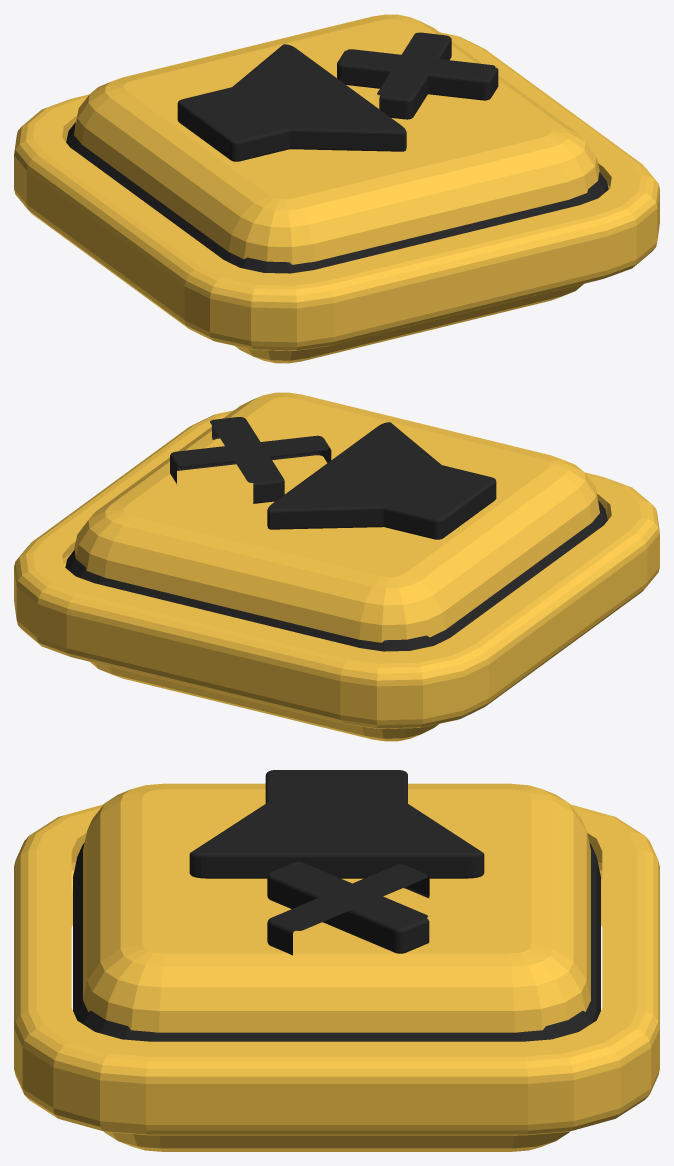
Rendered from Button_SoundOff.fbx.
3 renders of one model, top to bottom at view 1: azimuth 30°, elevation 25°; view 2: azimuth 150°, elevation 25°; view 3: azimuth 270°, elevation 25°, orthographic. The views are drawn at different scales.
Visible parts, largest first — view 1: Cube, Cube_12, Cube_1, Cube_10, Cube_2, Cube_3; view 2: Cube, Cube_12, Cube_1, Cube_10, Cube_3, Cube_2; view 3: Cube, Cube_12, Cube_1, Cube_10, Cube_3, Cube_2.
Boxes of the visible parts, box(x1,y1,x2,y2) form: Cube: box(74, 14, 599, 363); Cube_12: box(14, 32, 659, 350); Cube_1: box(177, 44, 406, 161); Cube_10: box(66, 122, 608, 273); Cube_2: box(337, 49, 498, 100); Cube_3: box(377, 32, 451, 119); Cube: box(74, 392, 599, 741); Cube_12: box(14, 410, 659, 728); Cube_1: box(267, 422, 496, 539); Cube_10: box(65, 500, 607, 651); Cube_3: box(170, 435, 331, 483); Cube_2: box(210, 417, 284, 503); Cube: box(83, 783, 590, 1151); Cube_12: box(14, 804, 659, 1135); Cube_1: box(189, 770, 484, 878); Cube_10: box(73, 843, 600, 1041); Cube_3: box(267, 861, 429, 953); Cube_2: box(267, 864, 429, 955).
Bounding box in the file's own units: 254 × 94.33 × 254.
